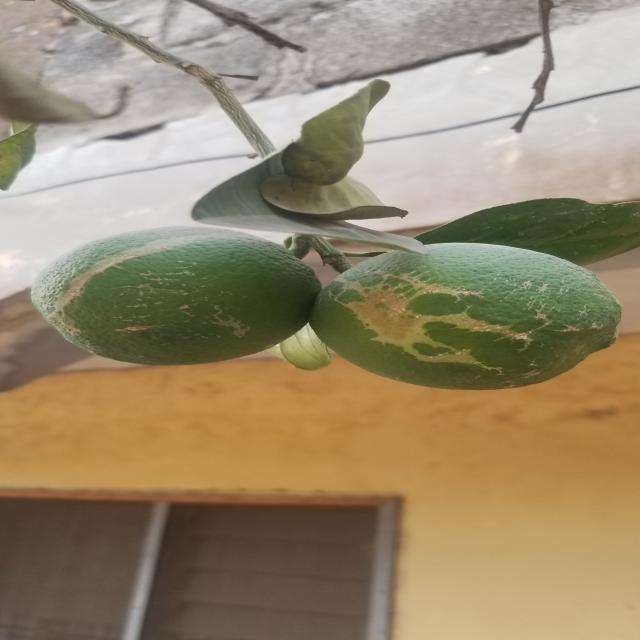Unripe: (320, 244, 624, 389), (33, 225, 320, 364)
